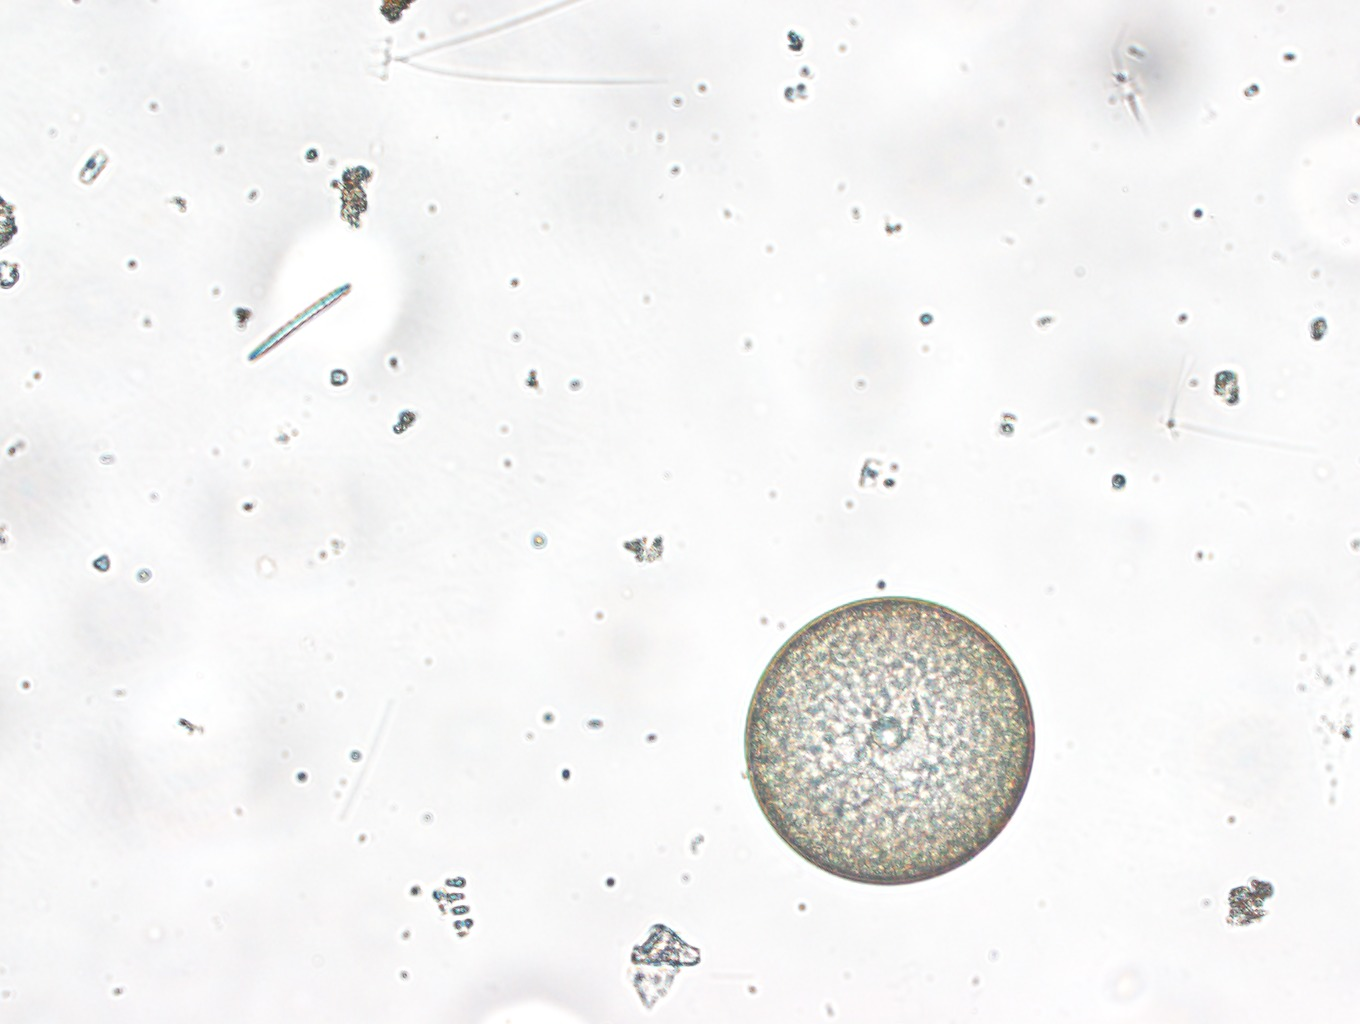coscinodiscus: (739, 595, 1040, 893)
